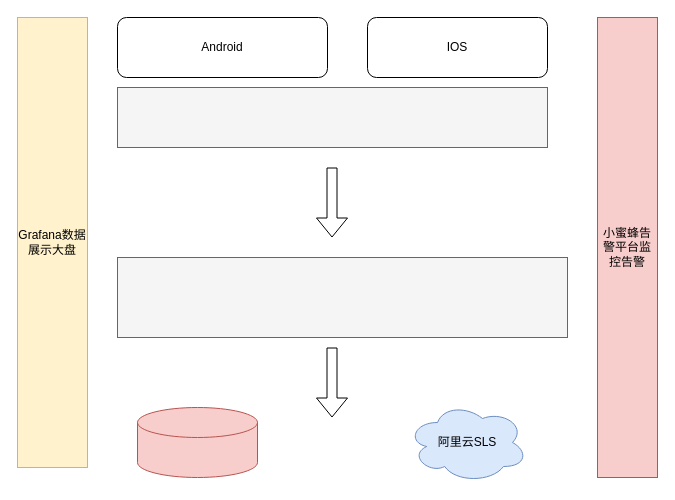
Image size: 675x500. Some labels were removed from this diagram. Here are the shapes that lost their labels. From the top down, the centre of each, then its label:
pixel 332 117: 客户端异常上报SDK
pixel 342 297: APP端异常上报平台：异常数据加工，异步上报
pixel 197 442: Prometheus
